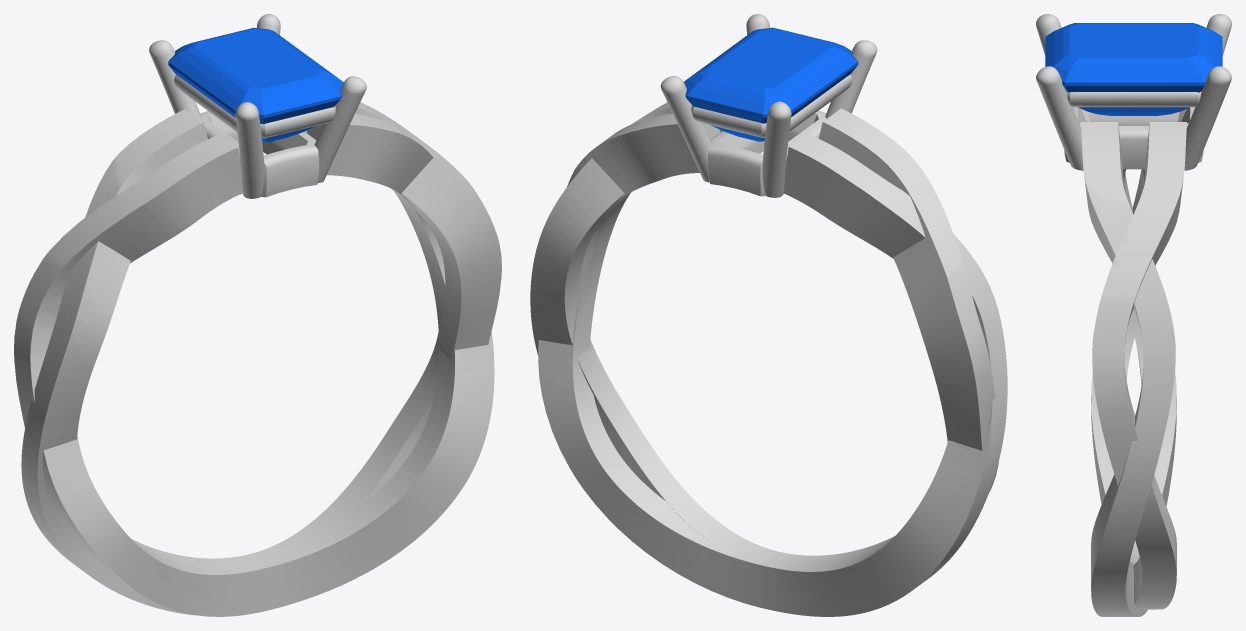
The model's file is bluesapphire-emerald-platinum-4prong-twist-nosidestones.glb.
The picture shows the model from 3 angles, left to right: view 1: azimuth 30°, elevation 25°; view 2: azimuth 150°, elevation 25°; view 3: azimuth 270°, elevation 25°; orthographic projection.
Parts seen in each view (by area): view 1: metal, stone; view 2: metal, stone; view 3: metal, stone.
Part boxes in pixels (left/top/right/bottom): metal: left=14, top=14, right=501, bottom=616; stone: left=168, top=27, right=343, bottom=142; metal: left=530, top=14, right=1007, bottom=616; stone: left=684, top=27, right=858, bottom=141; metal: left=1036, top=14, right=1231, bottom=616; stone: left=1045, top=23, right=1222, bottom=115.
Bounding box in the file's own units: 19.97 × 22.85 × 7.4.
